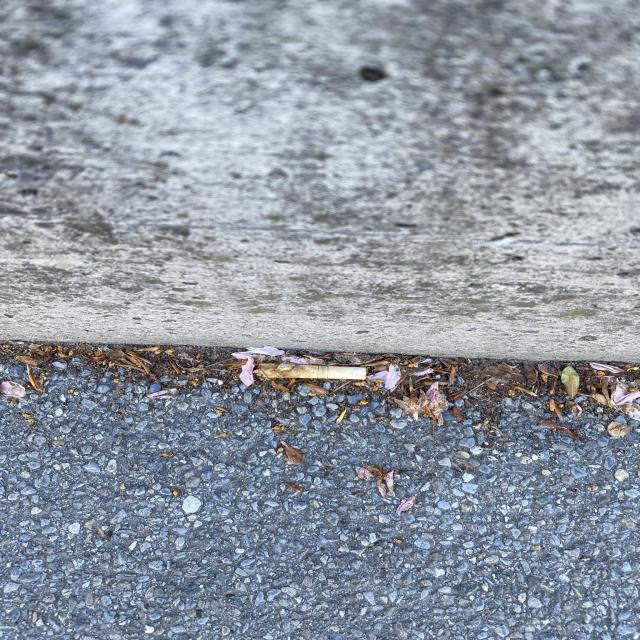other waste: (253, 362, 366, 380)
